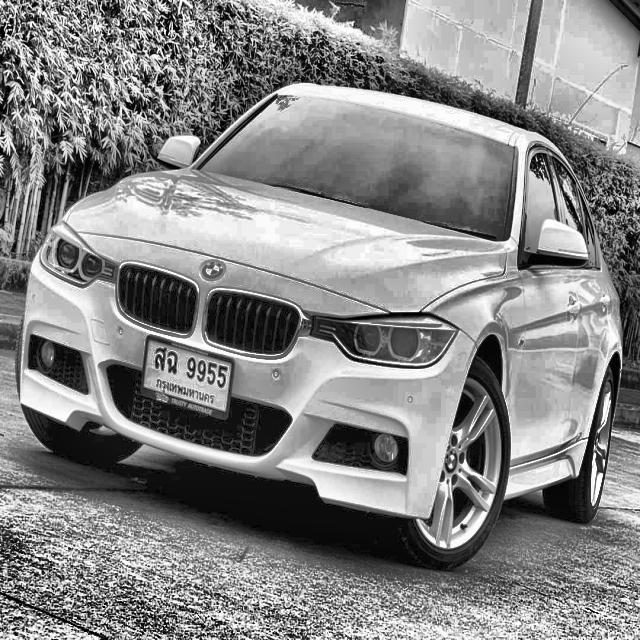license-plate: (139, 333, 238, 419)
